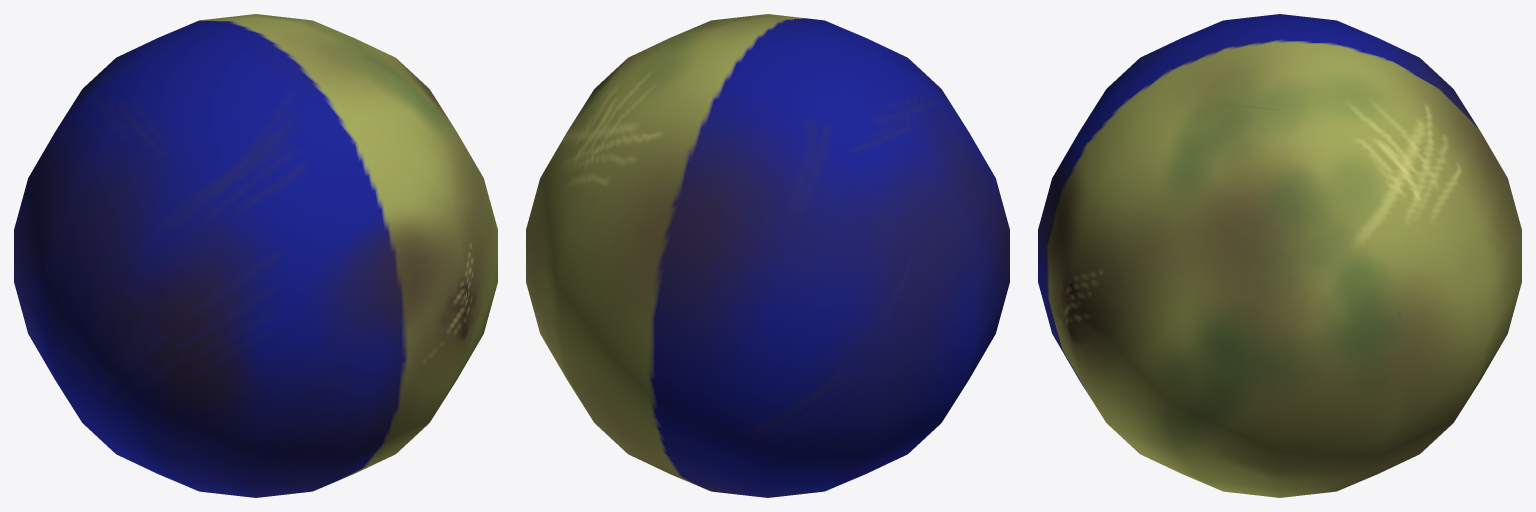
File: Prop_SmallBall001.glb
The picture shows the model from 3 angles, left to right: view 1: azimuth 30°, elevation 25°; view 2: azimuth 150°, elevation 25°; view 3: azimuth 270°, elevation 25°; orthographic projection.
Parts seen in each view (by area): view 1: Sphere.001; view 2: Sphere.001; view 3: Sphere.001.
Part boxes in pixels (bbox=[...]): Sphere.001: bbox=[14, 14, 497, 497]; Sphere.001: bbox=[526, 14, 1009, 497]; Sphere.001: bbox=[1038, 14, 1521, 497].
Bounding box in the file's own units: 0.25 × 0.25 × 0.25.
Materials: 1 (1 with a texture image).
